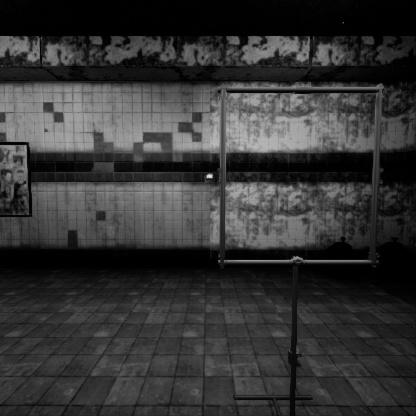gate: (219, 148, 397, 329)
